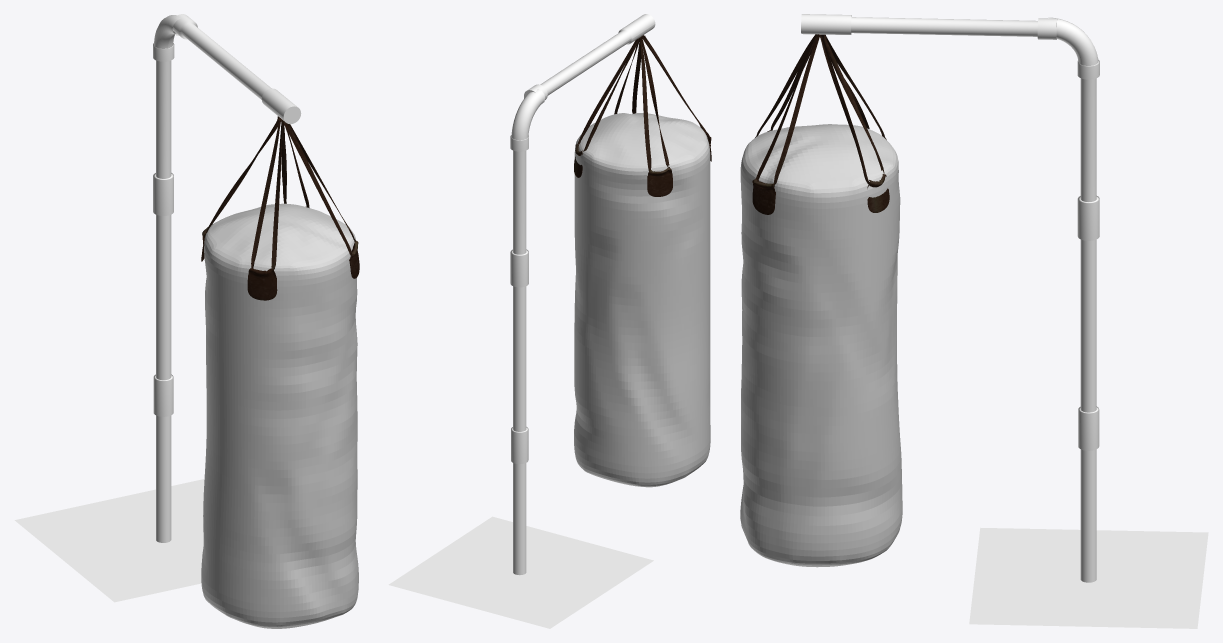
The model's file is punch_bag.glb.
The picture shows the model from 3 angles, left to right: view 1: azimuth 30°, elevation 25°; view 2: azimuth 150°, elevation 25°; view 3: azimuth 270°, elevation 25°; orthographic projection. The views are drawn at different scales.
Visible parts, largest first — view 1: Cylinder, Plane_4, Pipe_5, Vintage / Old punching bag, Pipe Horizontal_6, Elbow joint_7; view 2: Cylinder, Plane_4, Pipe_5, Vintage / Old punching bag, Pipe Horizontal_6, Elbow joint_7; view 3: Cylinder, Plane_4, Pipe_5, Vintage / Old punching bag, Pipe Horizontal_6, Elbow joint_7.
Part boxes in pixels (x1,y1,x2,y2): Cylinder: (201,203,358,628); Plane_4: (14,479,204,602); Pipe_5: (153,43,174,542); Vintage / Old punching bag: (201,116,359,300); Pipe Horizontal_6: (172,14,301,124); Elbow joint_7: (154,15,180,48); Cylinder: (574,113,710,487); Plane_4: (388,516,653,628); Pipe_5: (510,135,528,575); Vintage / Old punching bag: (574,35,711,196); Pipe Horizontal_6: (524,14,655,99); Elbow joint_7: (511,89,545,140); Cylinder: (740,124,902,567); Plane_4: (969,527,1208,628); Pipe_5: (1077,60,1099,582); Vintage / Old punching bag: (752,34,889,214); Pipe Horizontal_6: (801,14,1057,39); Elbow joint_7: (1048,17,1098,65).
Bounding box in the file's own units: 2.25 × 5.85 × 4.4.
Materials: 4 (1 with a texture image).
